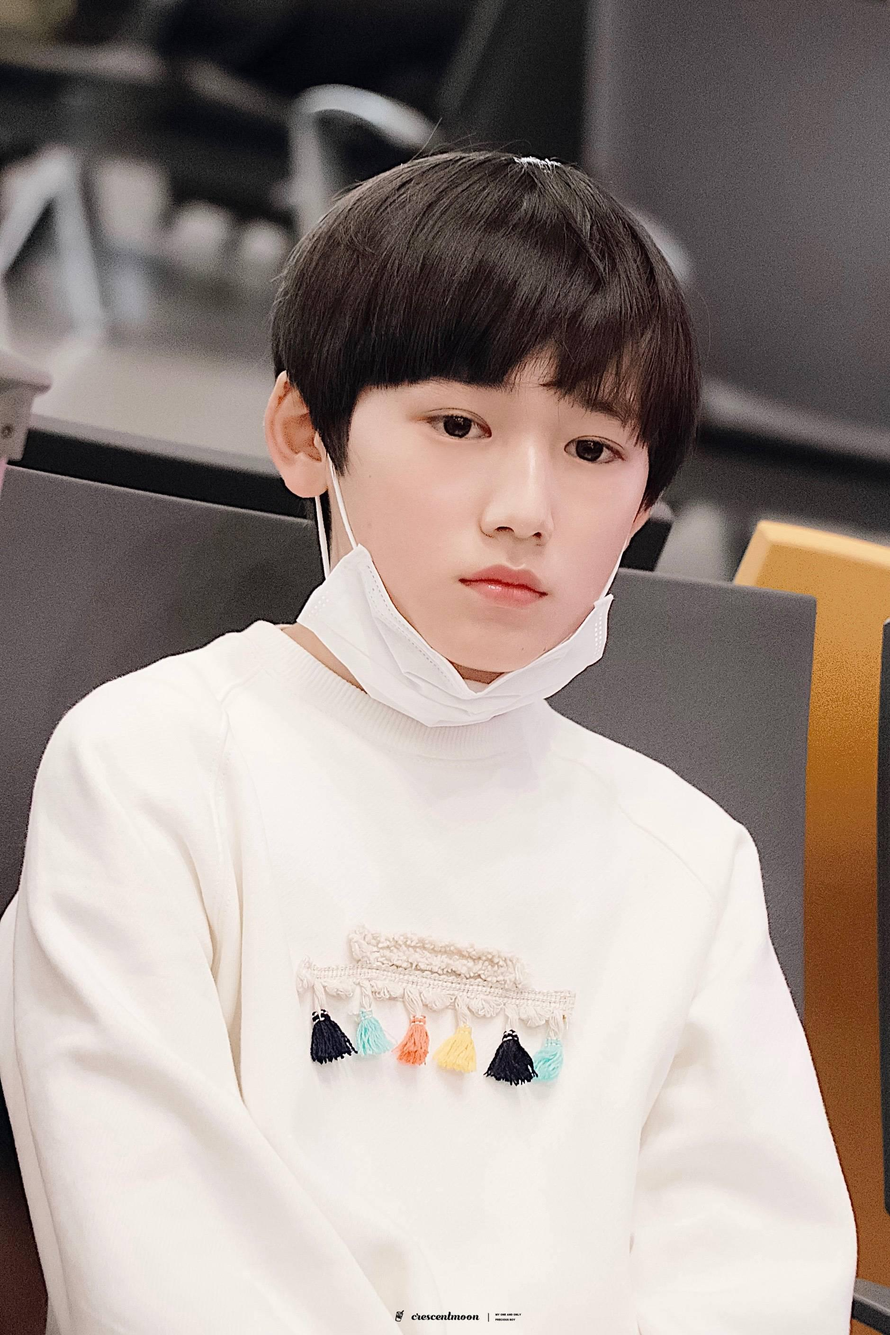WRONG: (366, 369, 643, 676)
